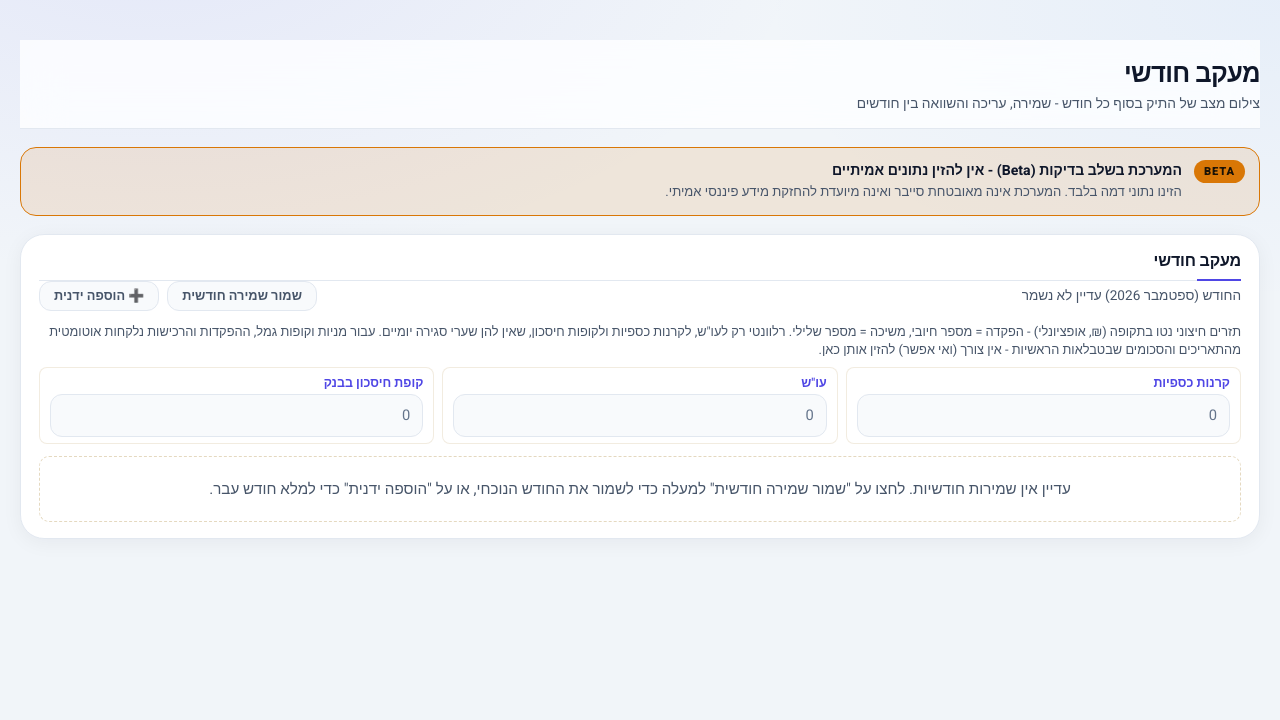
Test: MonthlyTrackerView › "➕ הוספה ידנית" (manual backfill of a forgotten past month) › the auto-derived section lists the stock and provident-fund categories, read-only
Click the button "➕ הוספה ידנית" at [99, 296], box [39,281,159,311]
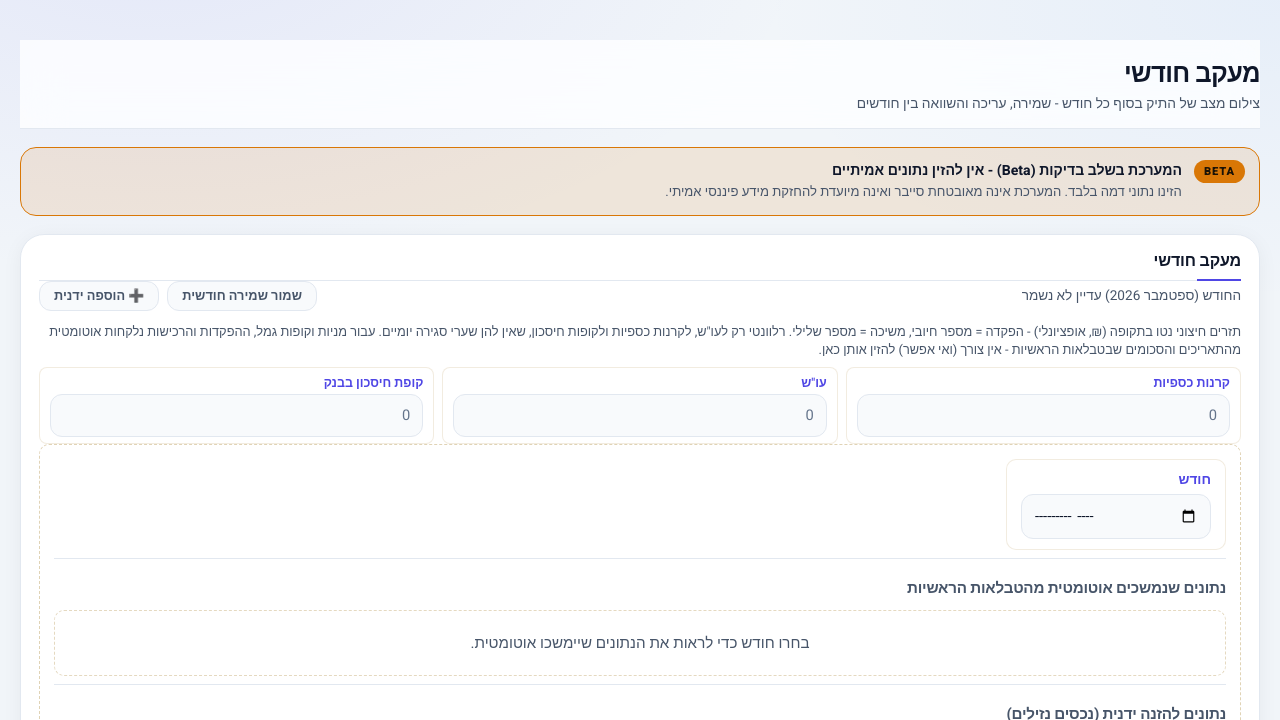
Type "2024-03" into the field labelled "חודש" at [1116, 516], box [1021,494,1211,539]
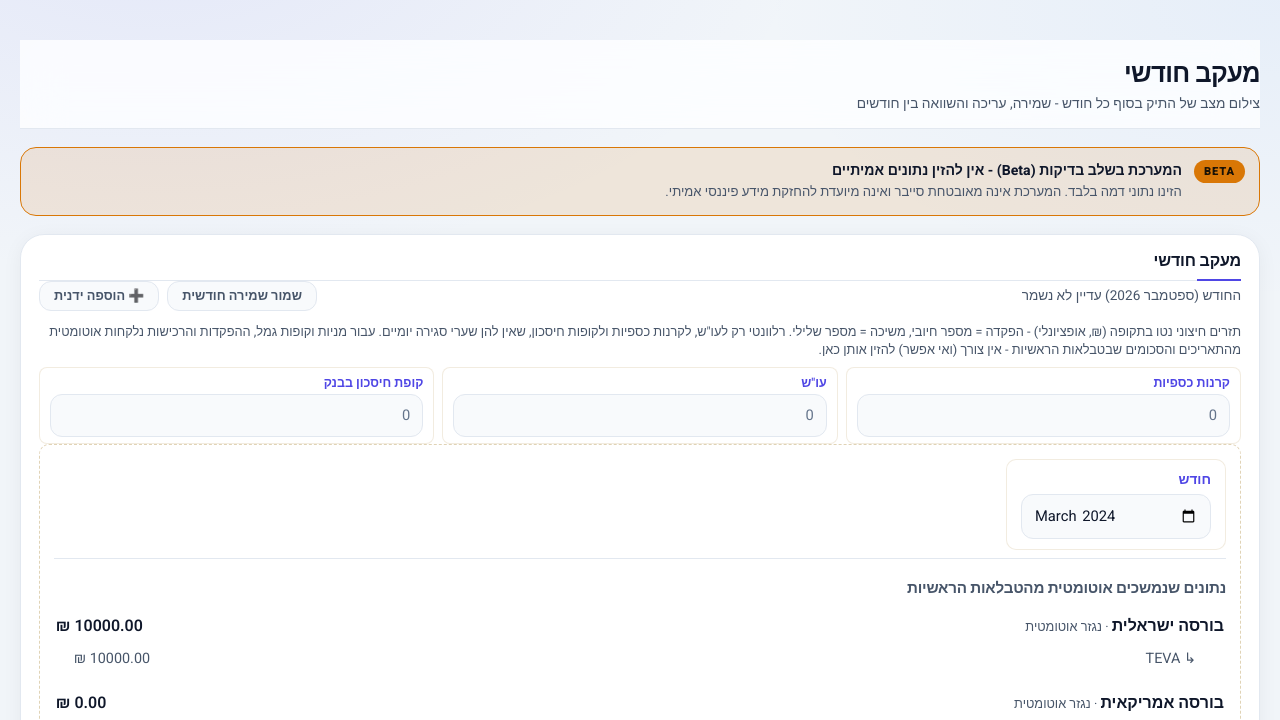
expect the text "10000.00 ₪" is shown 2 times: met, box [56,614,143,638]; [74,648,150,669]
expect the text "· נגזר אוטומטית" is shown 3 times: met
